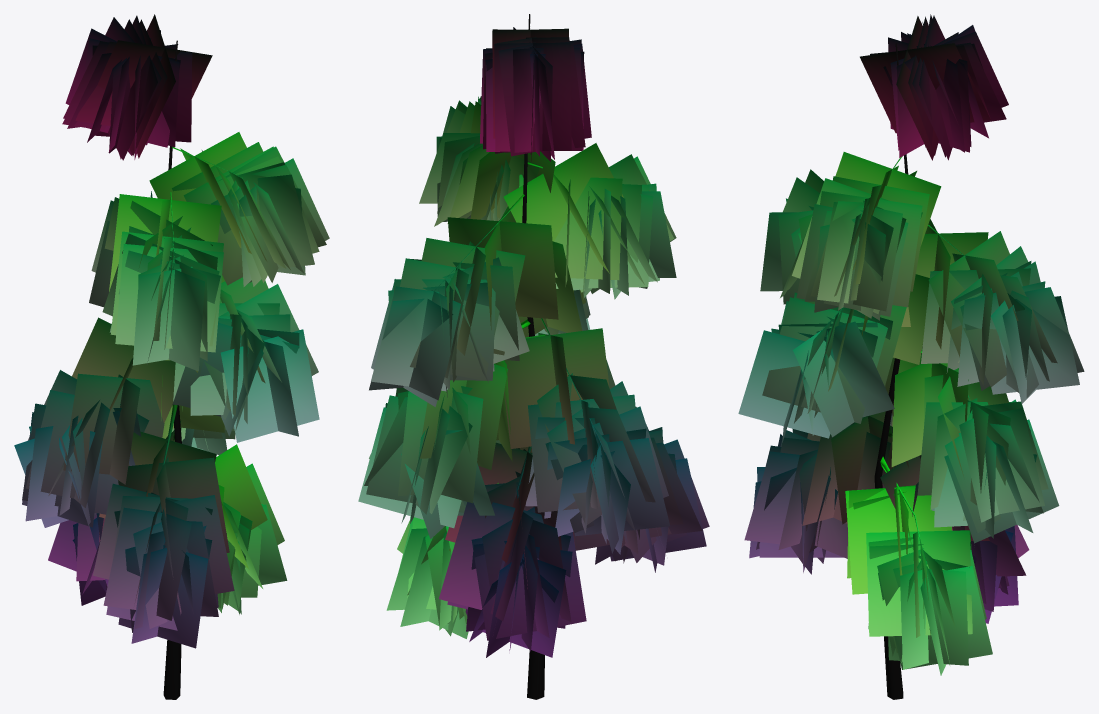
The model's file is URP_P13_Tree_1_LOD_3.fbx.
The picture shows the model from 3 angles, left to right: view 1: azimuth 30°, elevation 25°; view 2: azimuth 150°, elevation 25°; view 3: azimuth 270°, elevation 25°; orthographic projection. The views are drawn at different scales.
Parts seen in each view (by area): view 1: Tree_1_LOD_3; view 2: Tree_1_LOD_3; view 3: Tree_1_LOD_3.
Boxes of the visible parts, x1=… form: Tree_1_LOD_3: x1=14, y1=14, x2=329, y2=699; Tree_1_LOD_3: x1=358, y1=14, x2=709, y2=699; Tree_1_LOD_3: x1=738, y1=14, x2=1084, y2=699.
Size of the model in its own units: 334 by 788 by 374.
